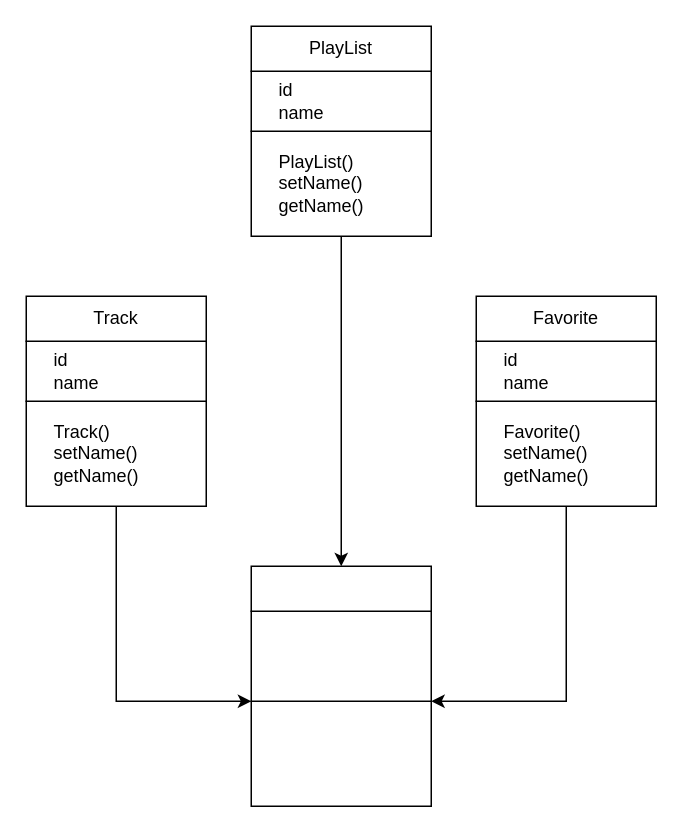
This 683x833 diagram has some shape labels left out. Here are the shapes that lost their labels. From the top down, the box of each, then its label:
(250, 565, 431, 611): Main
(250, 610, 431, 701): List<Tracks> List<Favorites> List<PlayLists>
(250, 700, 431, 806): findAllTrack() findFavorites() findAllPlayList()
